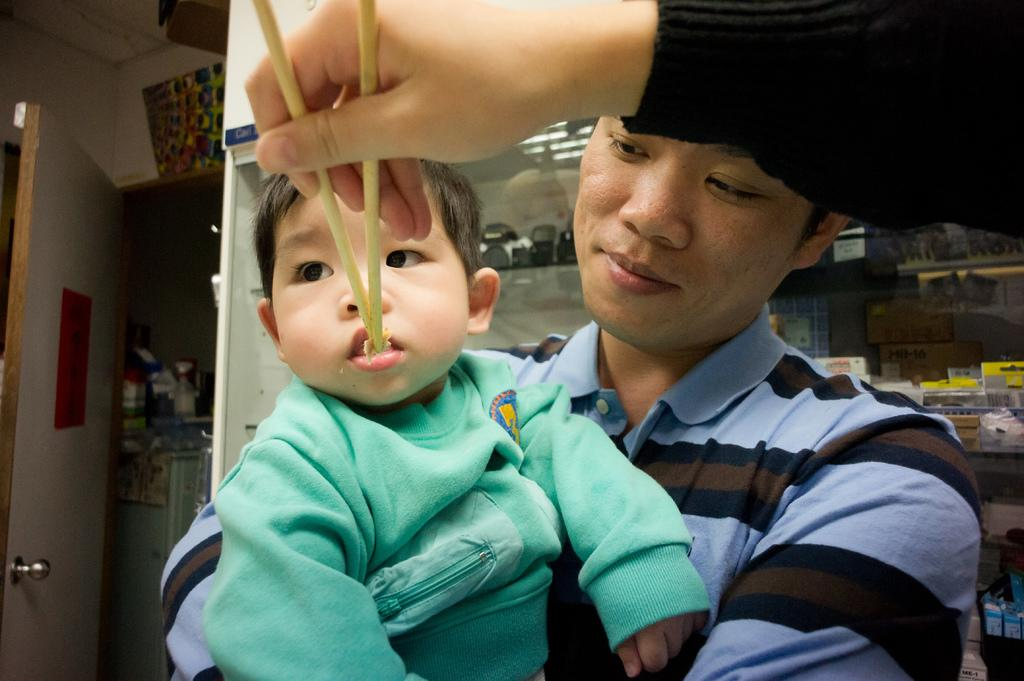Sem Máscara: (569, 109, 800, 352), (274, 186, 465, 407)
